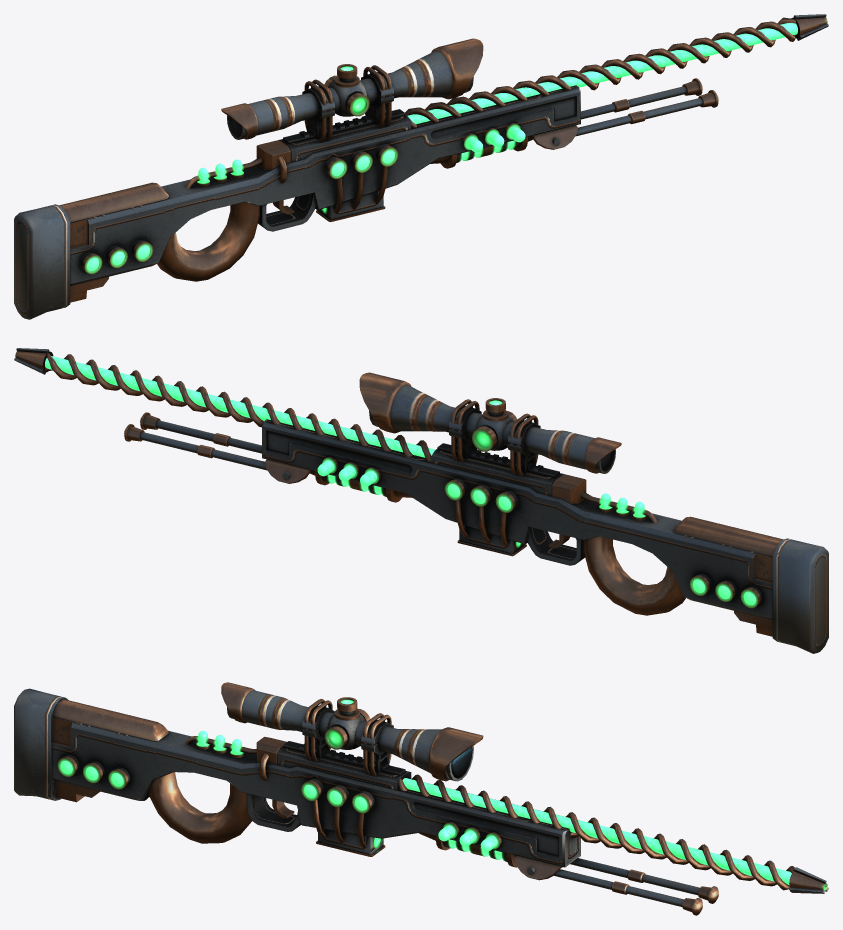
Rendered from jagd.gltf.
3 views of the same model, one above another, from view 1: azimuth 30°, elevation 25°; view 2: azimuth 150°, elevation 25°; view 3: azimuth 330°, elevation 25° (orthographic).
Parts seen in each view (by area): view 1: weapon_1_2; view 2: weapon_1_2; view 3: weapon_1_2.
Boxes of the visible parts, x1,y1,x2,y2 form: weapon_1_2: (14,14,828,319); weapon_1_2: (14,348,828,653); weapon_1_2: (14,682,828,915).
Size of the model in its own units: 9.48 by 1.98 by 0.7908.
1 material, 1 textured.
